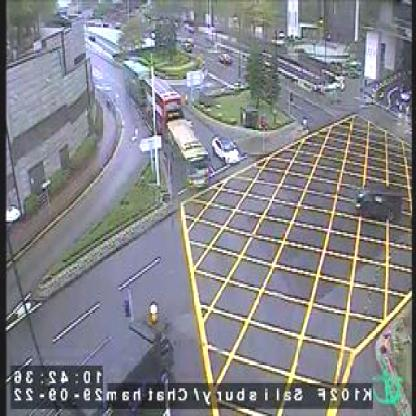Bus: (167, 118, 217, 197), (146, 71, 186, 146), (120, 50, 157, 106)
Car: (354, 180, 402, 226), (209, 130, 247, 166)
